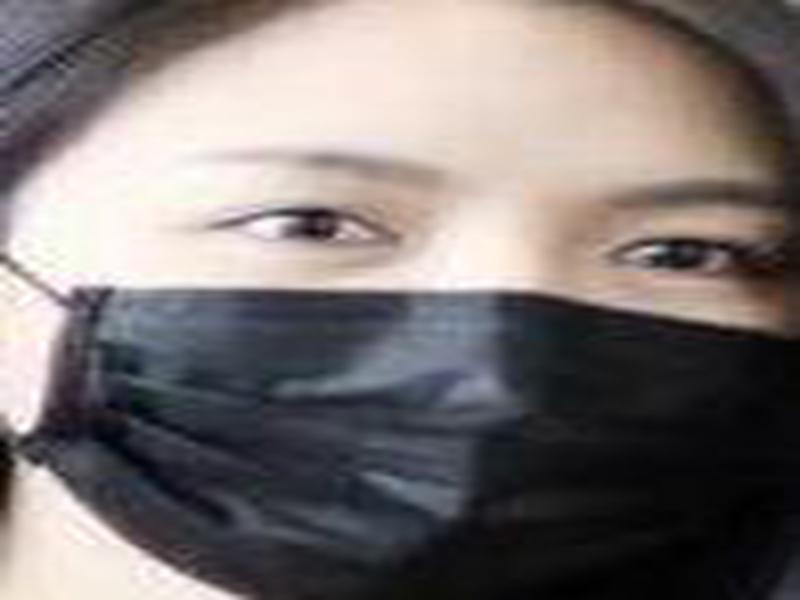with_mask: (1, 1, 797, 598)
